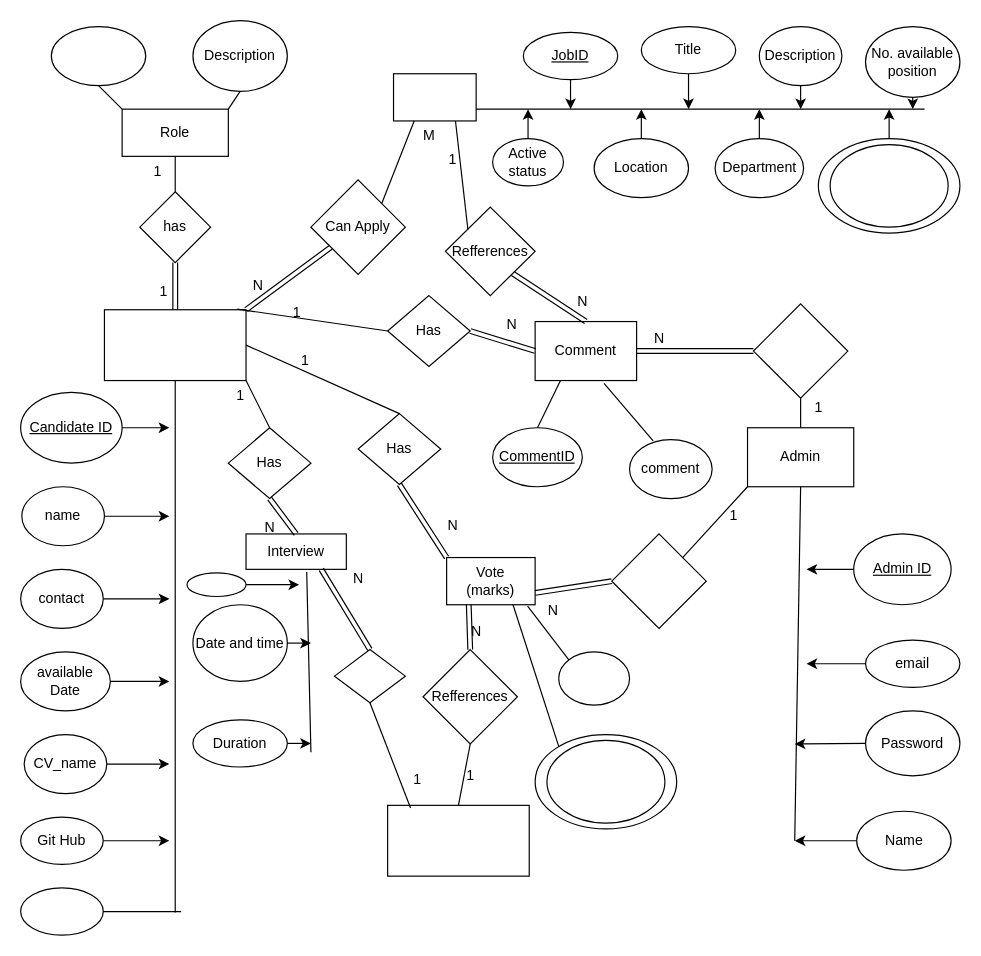
This 981x956 diagram has some shape labels left out. Here are the shapes that lost their labels. From the top down, the centre of each, then its label:
the point at 98,55: Role ID
the point at 434,97: Job
the point at 888,185: Evaluation criteria full marks
the point at 174,345: Candidate
the point at 800,350: Can Add
the point at 216,584: ID
the point at 658,580: Can Vote
the point at 369,675: For
the point at 594,678: VoteID
the point at 605,781: Evaluation criteria marks
the point at 457,840: Job (Duppicate of Job Entitiy)
the point at 61,911: Linkedin
